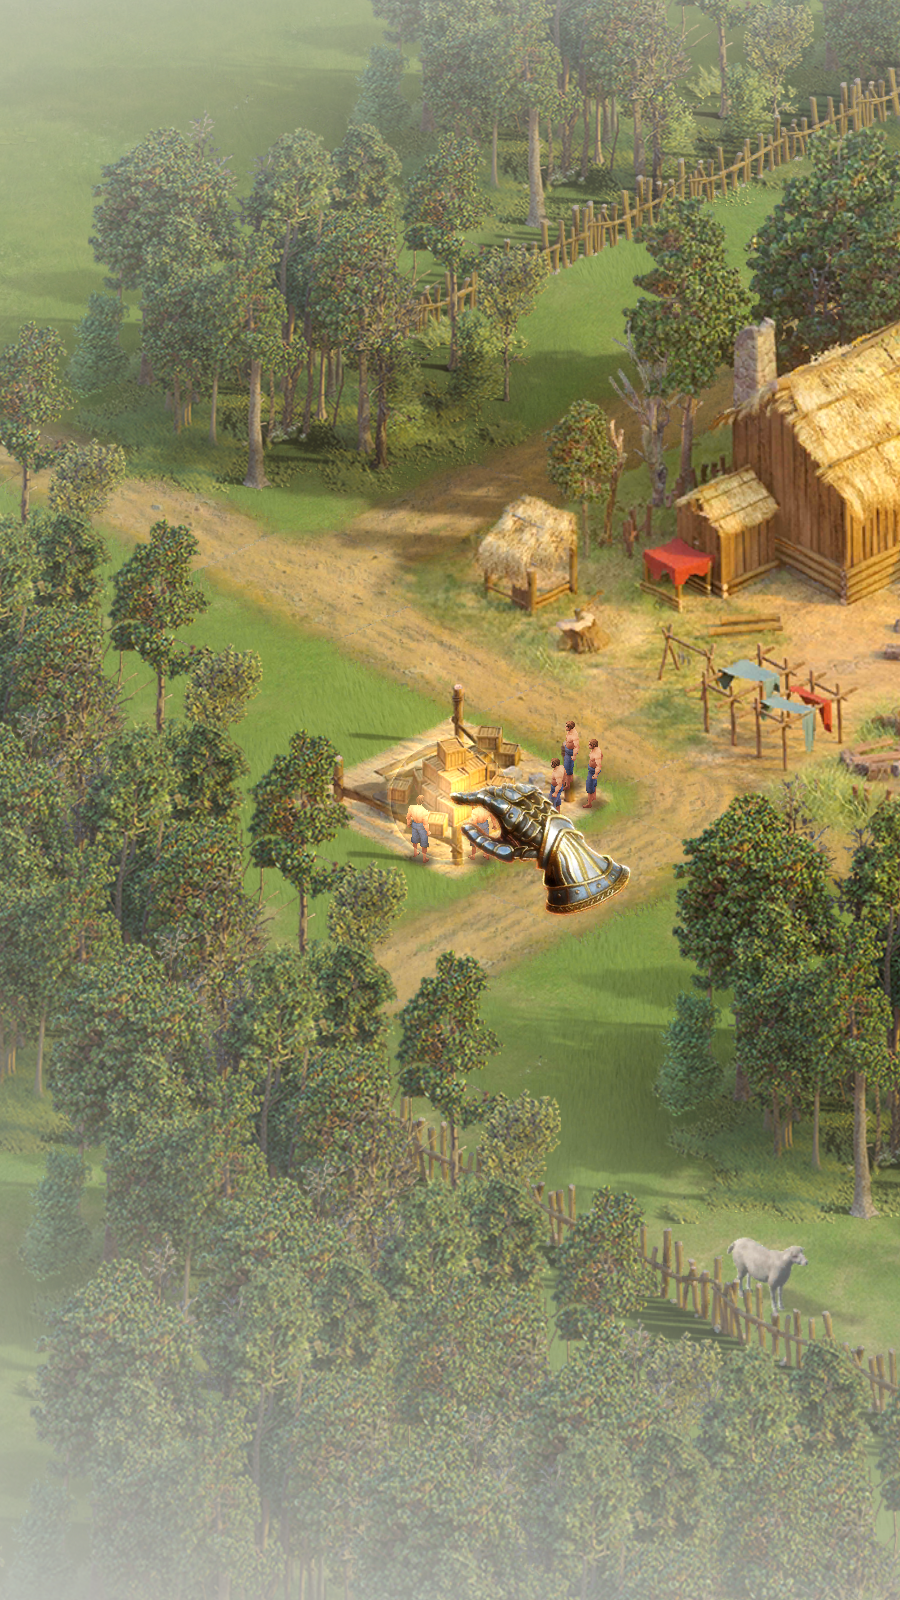Unknown: (575, 738, 599, 822), (552, 735, 573, 832), (563, 729, 577, 790)
WAY: (116, 427, 569, 718)
border: (427, 1103, 888, 1454), (408, 48, 898, 347)
hand: (447, 777, 634, 918)
house: (633, 304, 896, 611)
trees: (18, 796, 330, 1363), (102, 1292, 579, 1549), (134, 115, 380, 454)
